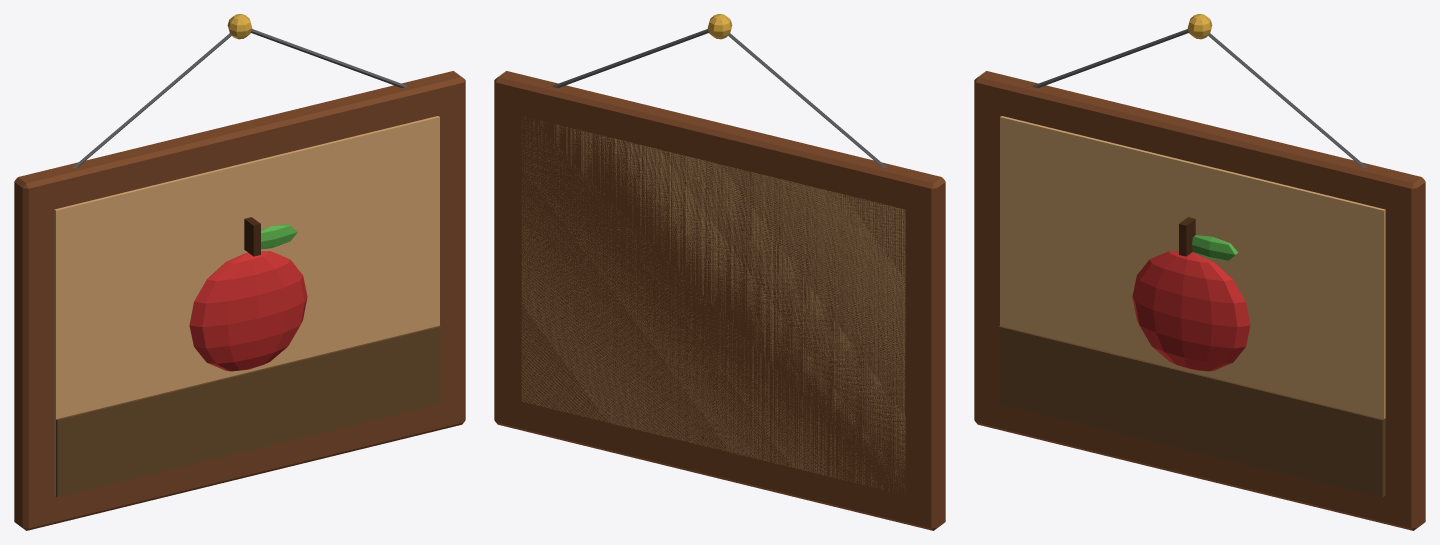
Rendered from wall_art_portrait.glb.
The picture shows the model from 3 angles, left to right: view 1: azimuth 30°, elevation 25°; view 2: azimuth 150°, elevation 25°; view 3: azimuth 330°, elevation 25°; orthographic projection.
Visible parts, largest first — view 1: wall_art_portrait; view 2: wall_art_portrait; view 3: wall_art_portrait.
Boxes of the visible parts, <box> form: wall_art_portrait: <box>14,14,465,530</box>; wall_art_portrait: <box>494,14,945,530</box>; wall_art_portrait: <box>974,14,1425,530</box>.
Size of the model in its own units: 0.6 by 0.595 by 0.059.
